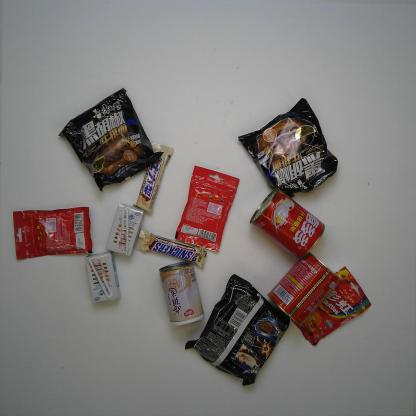Candy: (291, 264, 372, 346), (173, 165, 239, 250), (12, 206, 93, 260)
Canned Food: (266, 251, 343, 328), (249, 186, 326, 260), (160, 261, 205, 327)
Chocolate: (134, 227, 208, 270), (132, 142, 175, 216)
Instant Noodles: (184, 274, 291, 386), (58, 86, 165, 192), (236, 96, 340, 199)
Milk: (104, 203, 146, 258), (84, 250, 122, 304)
